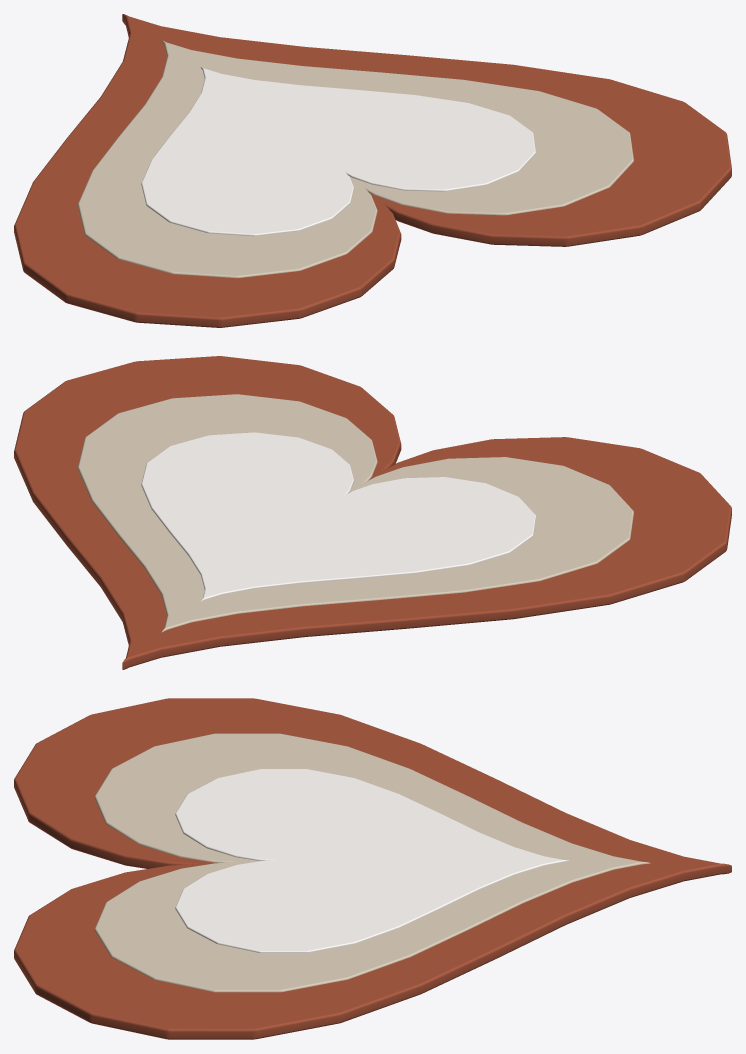
File: rug_heart.glb
3 views of the same model, one above another, from view 1: azimuth 30°, elevation 25°; view 2: azimuth 150°, elevation 25°; view 3: azimuth 270°, elevation 25° (orthographic). The views are drawn at different scales.
Visible parts, largest first — view 1: rug_heart; view 2: rug_heart; view 3: rug_heart.
Boxes of the visible parts, x1,y1,x2,y2 form: rug_heart: (14, 14, 731, 327); rug_heart: (14, 356, 731, 669); rug_heart: (14, 698, 731, 1039).
Bounding box in the file's own units: 1.97 × 0.04 × 1.8.
